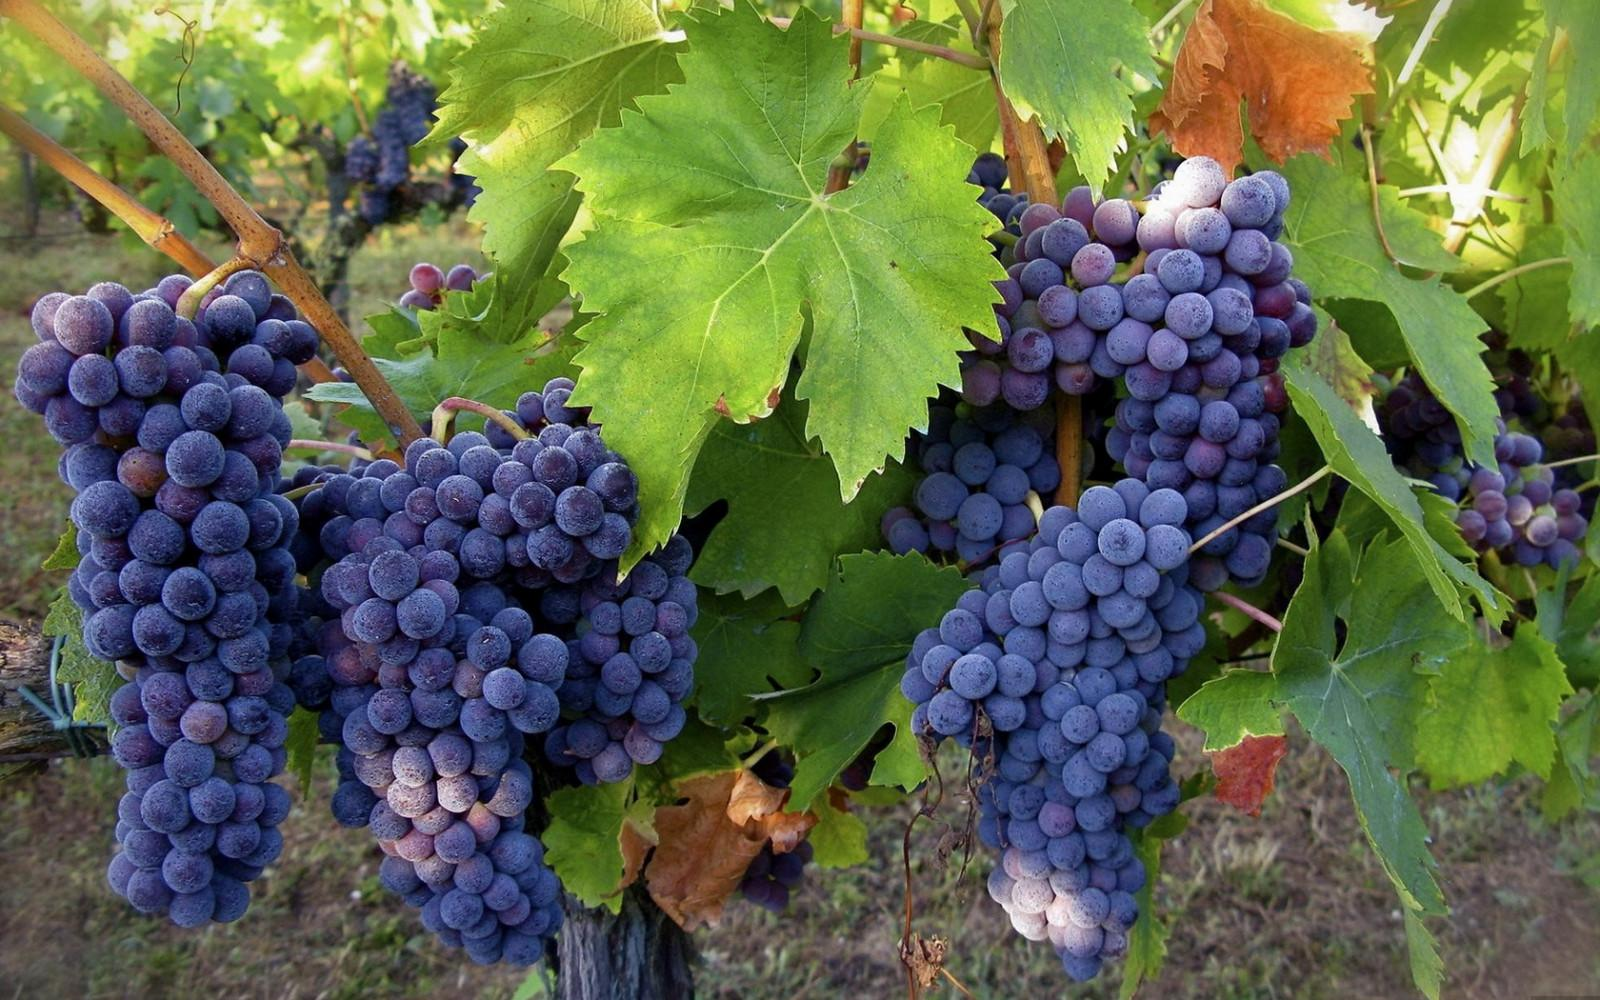grape: (279, 387, 693, 950), (22, 264, 319, 935), (918, 483, 1182, 986), (1015, 161, 1313, 550)
